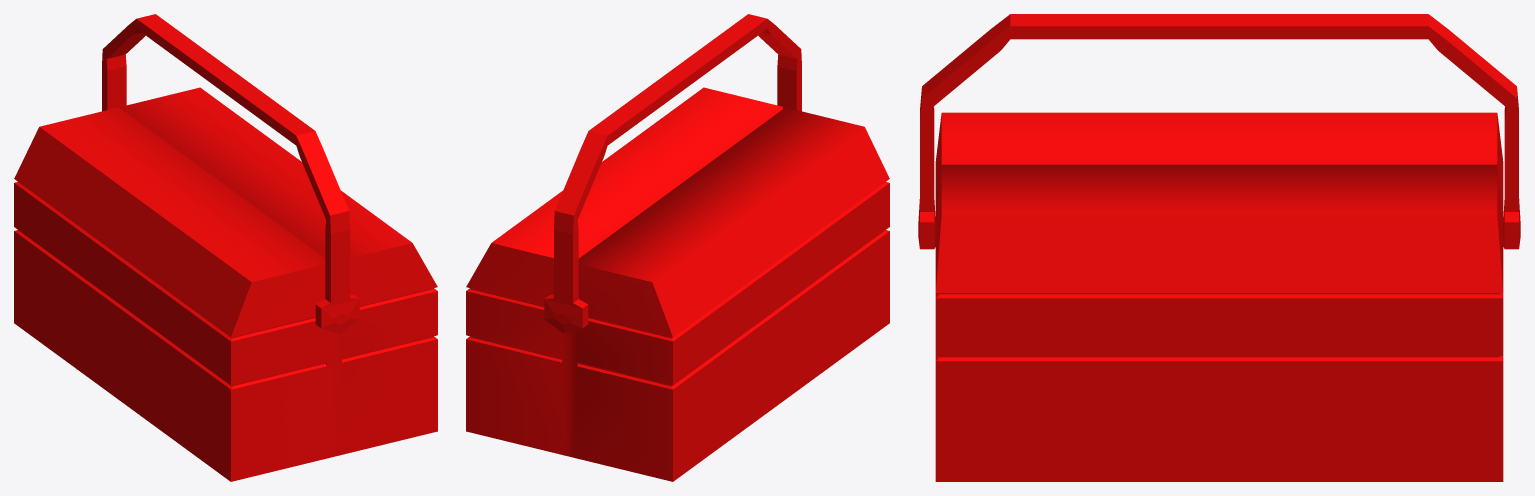
File: ToolBoxRed.fbx
The picture shows the model from 3 angles, left to right: view 1: azimuth 30°, elevation 25°; view 2: azimuth 150°, elevation 25°; view 3: azimuth 270°, elevation 25°; orthographic projection. The views are drawn at different scales.
Visible parts, largest first — view 1: Box001; view 2: Box001; view 3: Box001.
Boxes of the visible parts, <box> form: Box001: <box>14,14,437,481</box>; Box001: <box>466,14,889,481</box>; Box001: <box>918,14,1520,481</box>.
Bounding box in the file's own units: 27 × 37.72 × 52.
